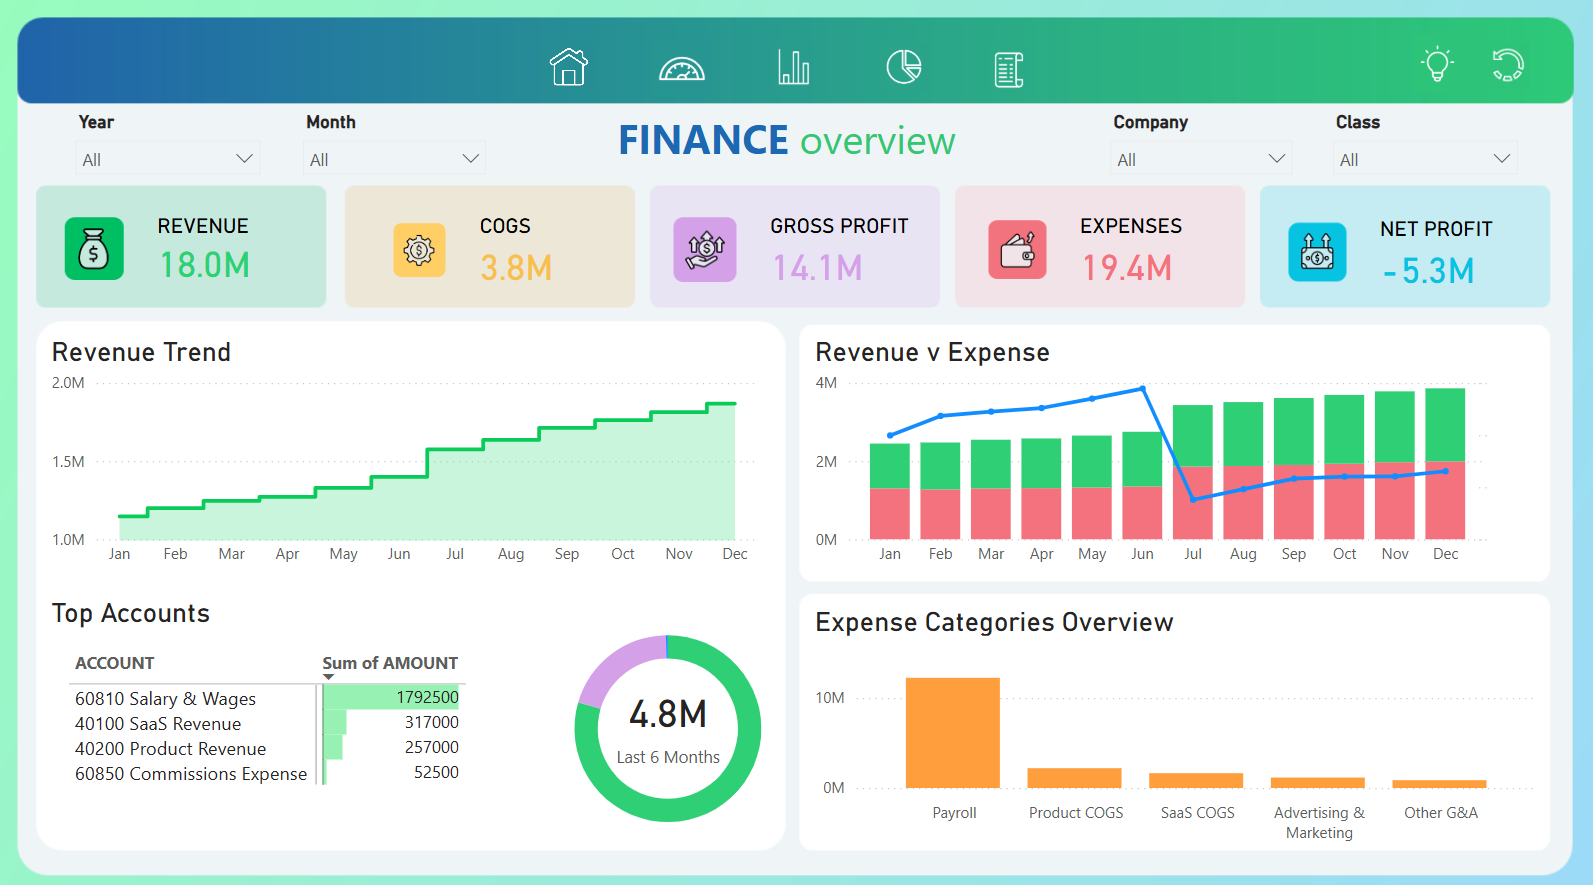

The page's visual inventory and layout, read from the dashboard file:
{"tool":"powerbi","page":{"name":"Finance Overview","canvas":[1280,720],"ordinal":0},"visuals":[{"type":"slicer","fields":{"Values":["TRANSACTION.DATE.Variation.Date Hierarchy.Year1"]},"box":[54.5,85.8,167.5,62.6],"z":0},{"type":"slicer","fields":{"Values":["TRANSACTION.DATE.Variation.Date Hierarchy.Month1"]},"box":[235.6,85.8,167.5,62.6],"z":1000},{"type":"slicer","fields":{"Values":["TRANSACTION.NAME"]},"box":[881.9,85.7,166.5,62.7],"z":2000},{"type":"slicer","fields":{"Values":["TRANSACTION.Short_CLASS"]},"box":[1060.5,85.7,167.7,62.7],"z":3000},{"type":"cardVisual","fields":{"Data":["TRANSACTION.Revenue"]},"box":[31.4,148.4,232.8,100.1],"z":4000},{"type":"cardVisual","fields":{"Data":["TRANSACTION.COGS"]},"box":[294.4,148.4,216,100.1],"z":5000},{"type":"cardVisual","fields":{"Data":["TRANSACTION.Gross_Profit"]},"box":[517.6,148.4,244.9,100.1],"z":6000},{"type":"cardVisual","fields":{"Data":["TRANSACTION.Expenses"]},"box":[769.7,148.4,230.4,100.1],"z":7000},{"type":"cardVisual","fields":{"Data":["TRANSACTION.Net_Profit"]},"box":[1009.8,149.6,230.4,100.1],"z":8000},{"type":"areaChart","title":"Revenue Trend","fields":{"Category":["TRANSACTION.Month Name"],"Y":["TRANSACTION.Revenue"]},"box":[39.8,271.4,575.5,193],"z":9000},{"type":"donutChart","title":"Top Revenue Accounts","fields":{"Category":["TRANSACTION.ACCOUNT"],"Y":["TRANSACTION.Revenue"]},"box":[388.5,487.4,225.6,196.6],"z":10000},{"type":"cardVisual","fields":{"Data":["TRANSACTION.Revenue_Last6M"]},"box":[428.3,526,143.6,119.4],"z":11000},{"type":"pivotTable","fields":{"Rows":["TRANSACTION.ACCOUNT"],"Values":["Sum(TRANSACTION.AMOUNT)"]},"box":[54.3,517.6,360.7,156.8],"z":12000},{"type":"textbox","box":[39.8,475.3,237.7,42.2],"z":13000},{"type":"lineStackedColumnComboChart","title":"Revenue v Expense","fields":{"Category":["TRANSACTION.Month Name"],"Y":["Sum(TRANSACTION.AMOUNT)"],"Series":["TRANSACTION.REVENUE/EXPENSES"],"Y2":["TRANSACTION.Net_Profit"]},"box":[651.5,271.4,588.7,193],"z":14000},{"type":"textbox","box":[493.4,85.7,300.4,54.3],"z":15000},{"type":"clusteredColumnChart","title":"Expense Categories Overview","fields":{"Y":["TRANSACTION.Expenses"],"Category":["ACCOUNTS.LEVEL_02"]},"box":[651,487,589,197],"z":16000},{"type":"actionButton","box":[488.6,29,43.4,53.1],"z":17000},{"type":"actionButton","box":[565.5,36.2,32.6,37.4],"z":18000},{"type":"actionButton","box":[631.6,36.2,37.4,37.4],"z":19000},{"type":"actionButton","box":[702.5,36.2,33.8,37.4],"z":20000},{"type":"actionButton","box":[769.7,36.2,35,37.4],"z":21000}]}

Visuals, with their boxes in screenshot pixels (x1, y1, x2, y2), scaled from the page's 1280x720 canvas onto the 1593x885 screenshot:
slicer - TRANSACTION.DATE.Variation.Date Hierarchy.Year1: (68, 105, 276, 182)
slicer - TRANSACTION.DATE.Variation.Date Hierarchy.Month1: (293, 105, 502, 182)
slicer - TRANSACTION.NAME: (1098, 105, 1305, 182)
slicer - TRANSACTION.Short_CLASS: (1320, 105, 1529, 182)
cardVisual - TRANSACTION.Revenue: (39, 182, 329, 305)
cardVisual - TRANSACTION.COGS: (366, 182, 635, 305)
cardVisual - TRANSACTION.Gross_Profit: (644, 182, 949, 305)
cardVisual - TRANSACTION.Expenses: (958, 182, 1245, 305)
cardVisual - TRANSACTION.Net_Profit: (1257, 184, 1543, 307)
"Revenue Trend" areaChart: (50, 334, 766, 571)
"Top Revenue Accounts" donutChart: (484, 599, 764, 841)
cardVisual - TRANSACTION.Revenue_Last6M: (533, 647, 712, 793)
pivotTable - TRANSACTION.ACCOUNT x Sum(TRANSACTION.AMOUNT): (68, 636, 516, 829)
textbox: (50, 584, 345, 636)
"Revenue v Expense" lineStackedColumnComboChart: (811, 334, 1543, 571)
textbox: (614, 105, 988, 172)
"Expense Categories Overview" clusteredColumnChart: (810, 599, 1543, 841)
actionButton: (608, 36, 662, 101)
actionButton: (704, 44, 744, 90)
actionButton: (786, 44, 833, 90)
actionButton: (874, 44, 916, 90)
actionButton: (958, 44, 1001, 90)
